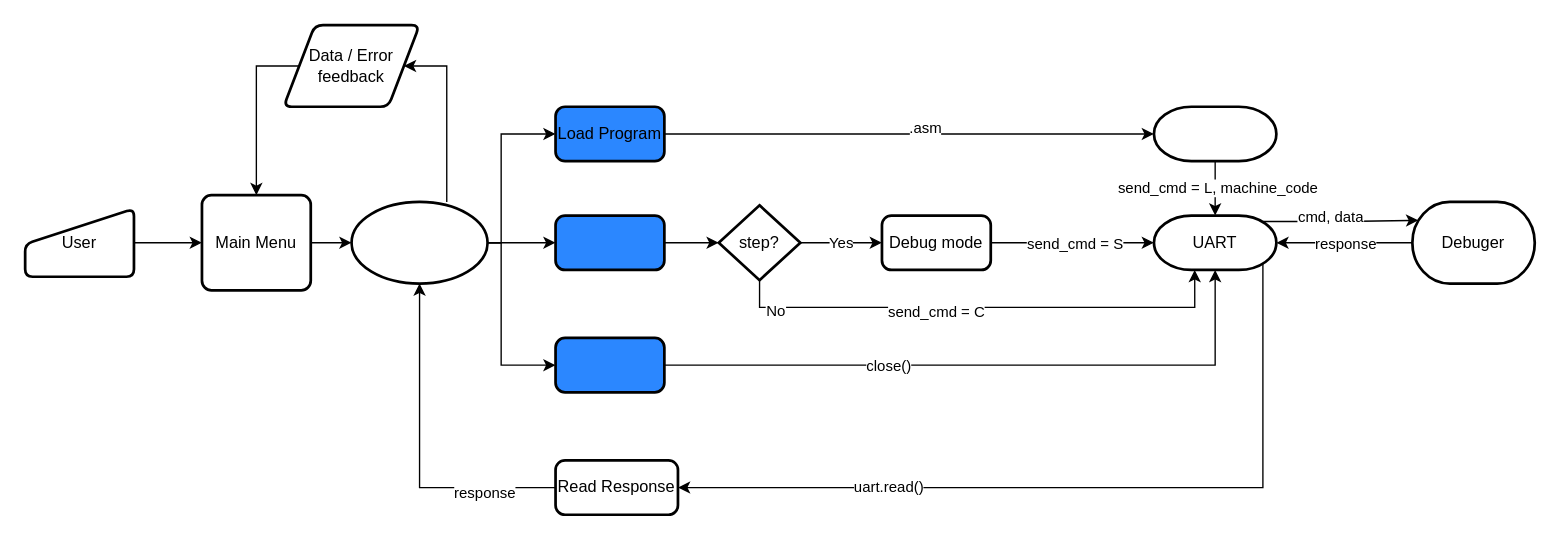
The diagram is 1559 pixels wide and 539 high, and some of its shapes have lost their labels. The shapes that lost their labels are listed below. From the top down, each one's centre as x and y in pixels, then its label:
At point 1214,133: "Compiler".
At point 419,242: "Interface".
At point 609,242: "Run Program".
At point 609,364: "Exit".
